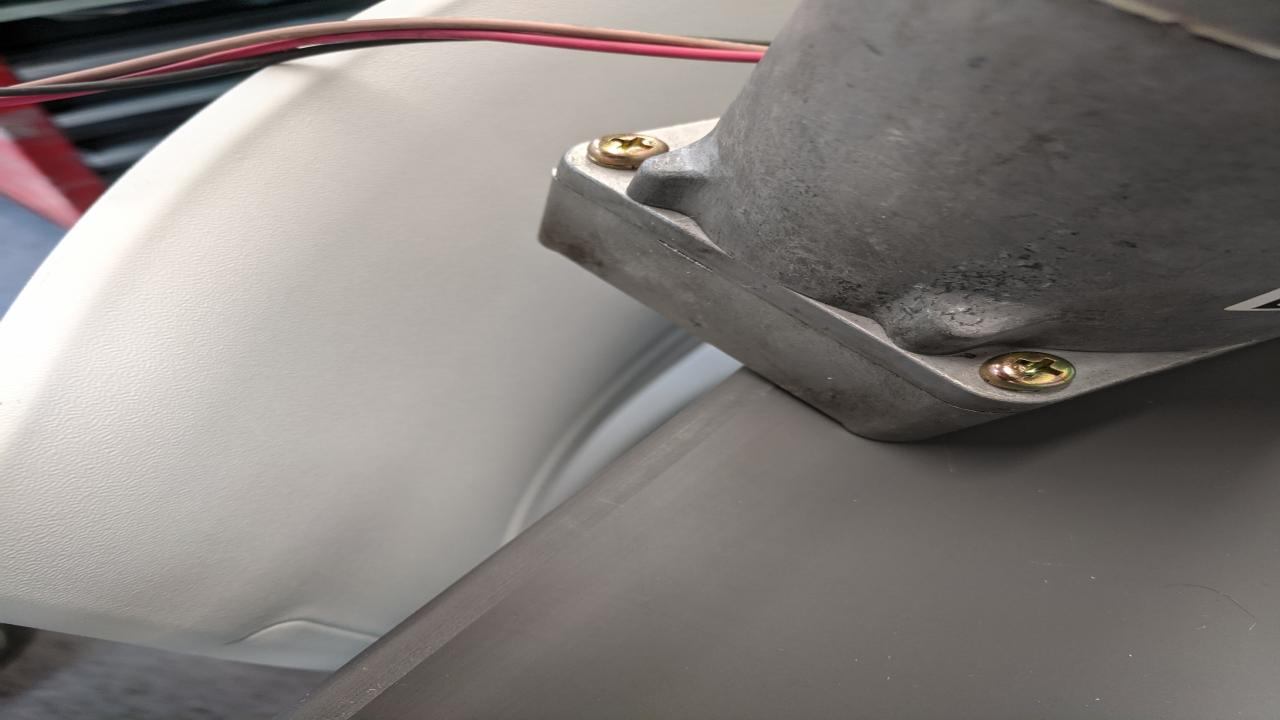CRS: (981, 352, 1073, 392), (591, 131, 662, 159)
